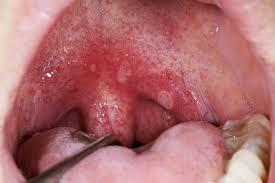Ulcer: (104, 55, 138, 88), (153, 85, 184, 121)
